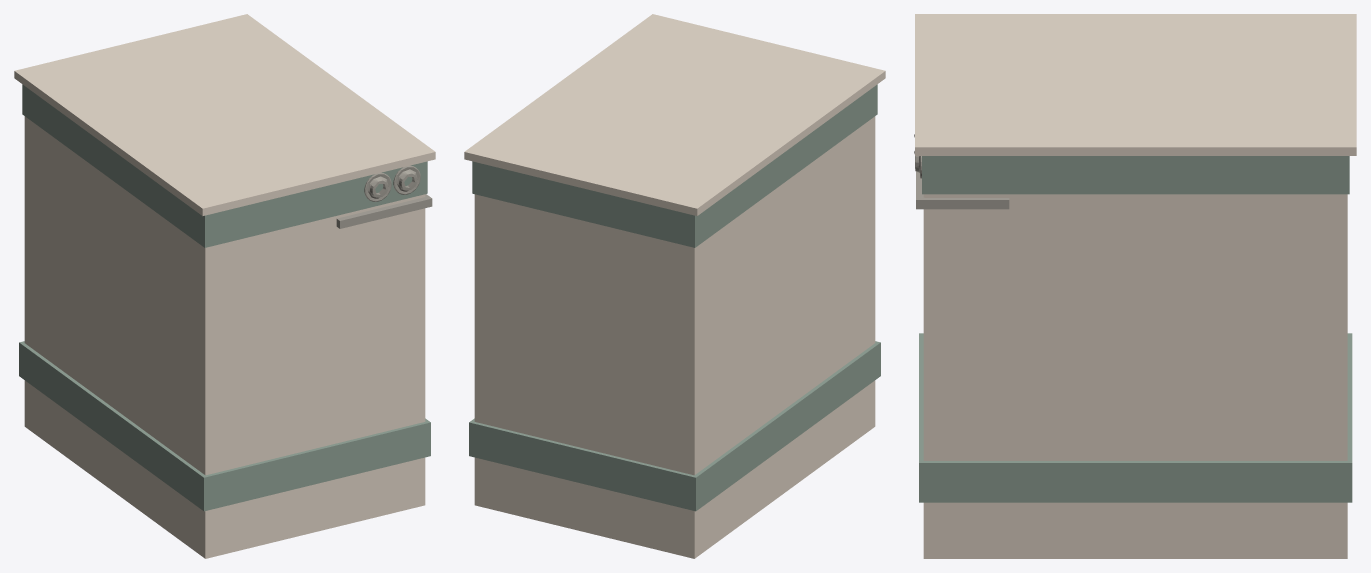
Rendered from bld_block_02.fbx.
3 renders of one model, left to right at view 1: azimuth 30°, elevation 25°; view 2: azimuth 150°, elevation 25°; view 3: azimuth 270°, elevation 25°, orthographic. The views are drawn at different scales.
Parts seen in each view (by area): view 1: bld_block_02; view 2: bld_block_02; view 3: bld_block_02.
Part boxes in pixels (<box>): bld_block_02: <box>14,14,435,558</box>; bld_block_02: <box>464,14,885,558</box>; bld_block_02: <box>914,14,1356,558</box>.
Size of the model in its own units: 586 by 852 by 822.
